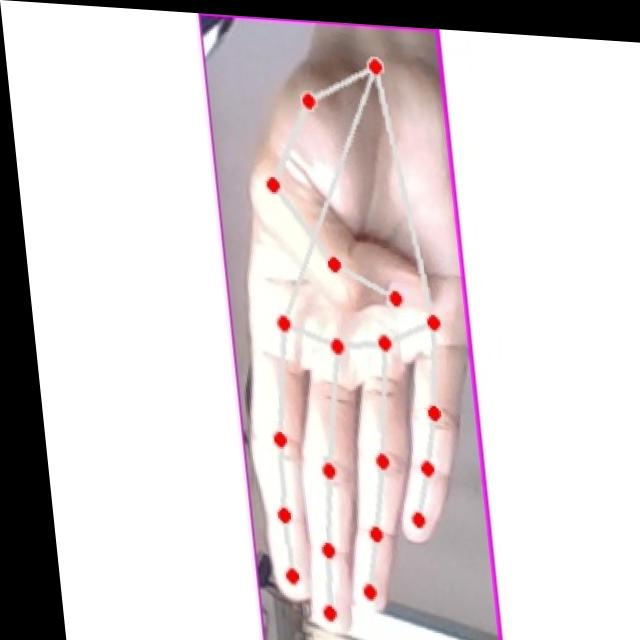B: (204, 48, 484, 640)
